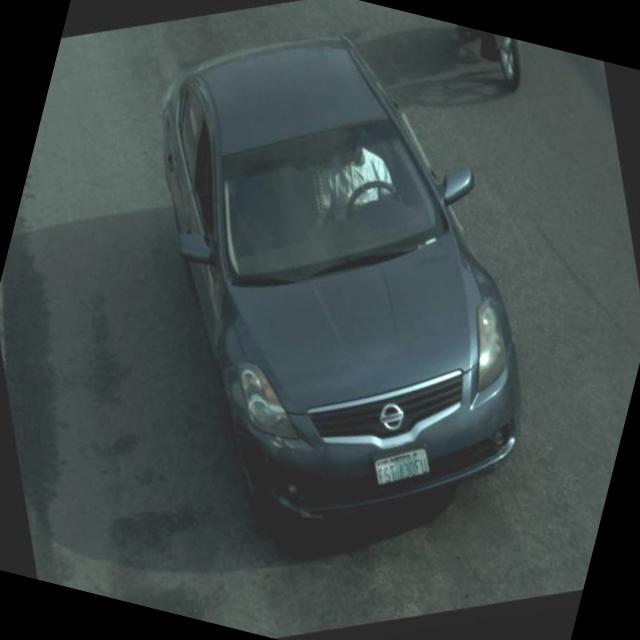person_without_seatbelt: (298, 105, 438, 278)
